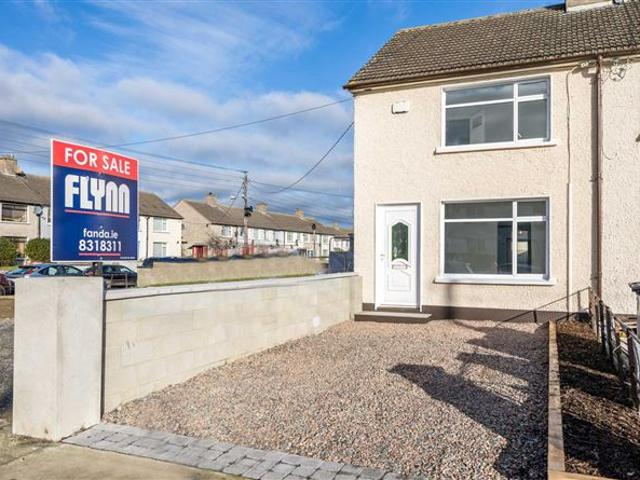property sign: (44, 118, 152, 272)
